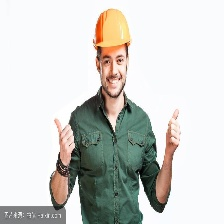helmet: (93, 10, 132, 48)
no-vest: (80, 94, 150, 224)
person: (69, 7, 154, 224)
